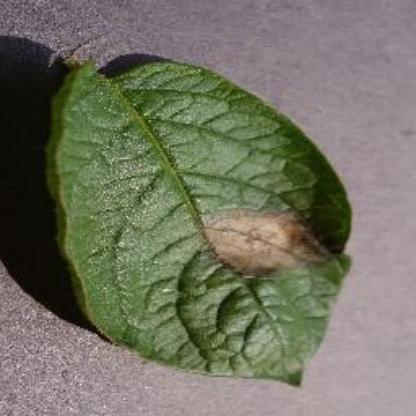Late-Blight: (37, 38, 356, 388)
